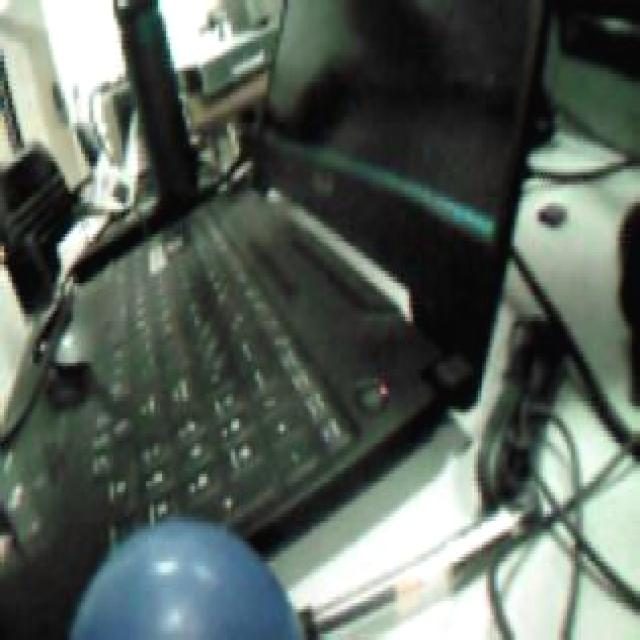BallPurple: (67, 519, 301, 640)
